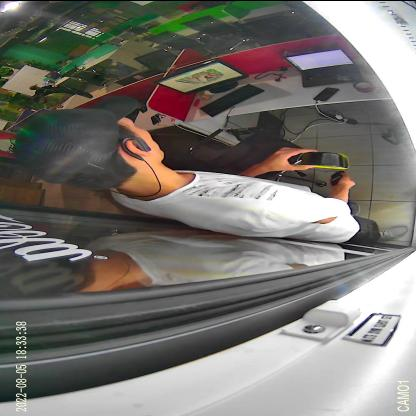yellow: (296, 151, 350, 168)
